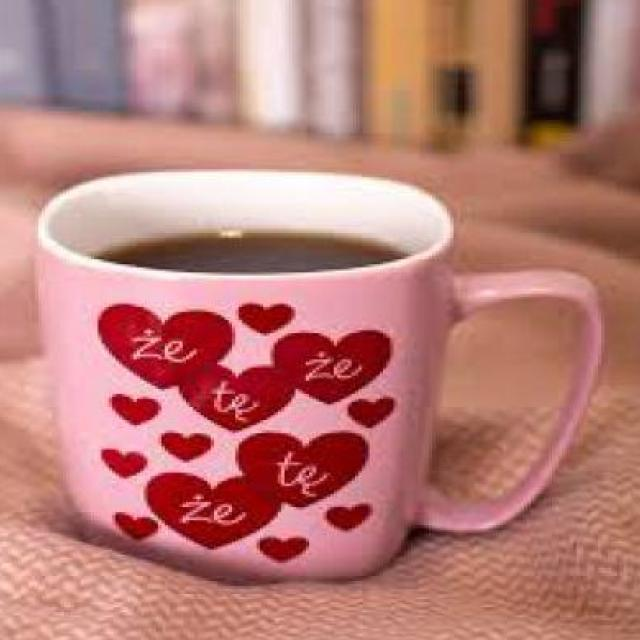cup: (29, 164, 613, 594)
